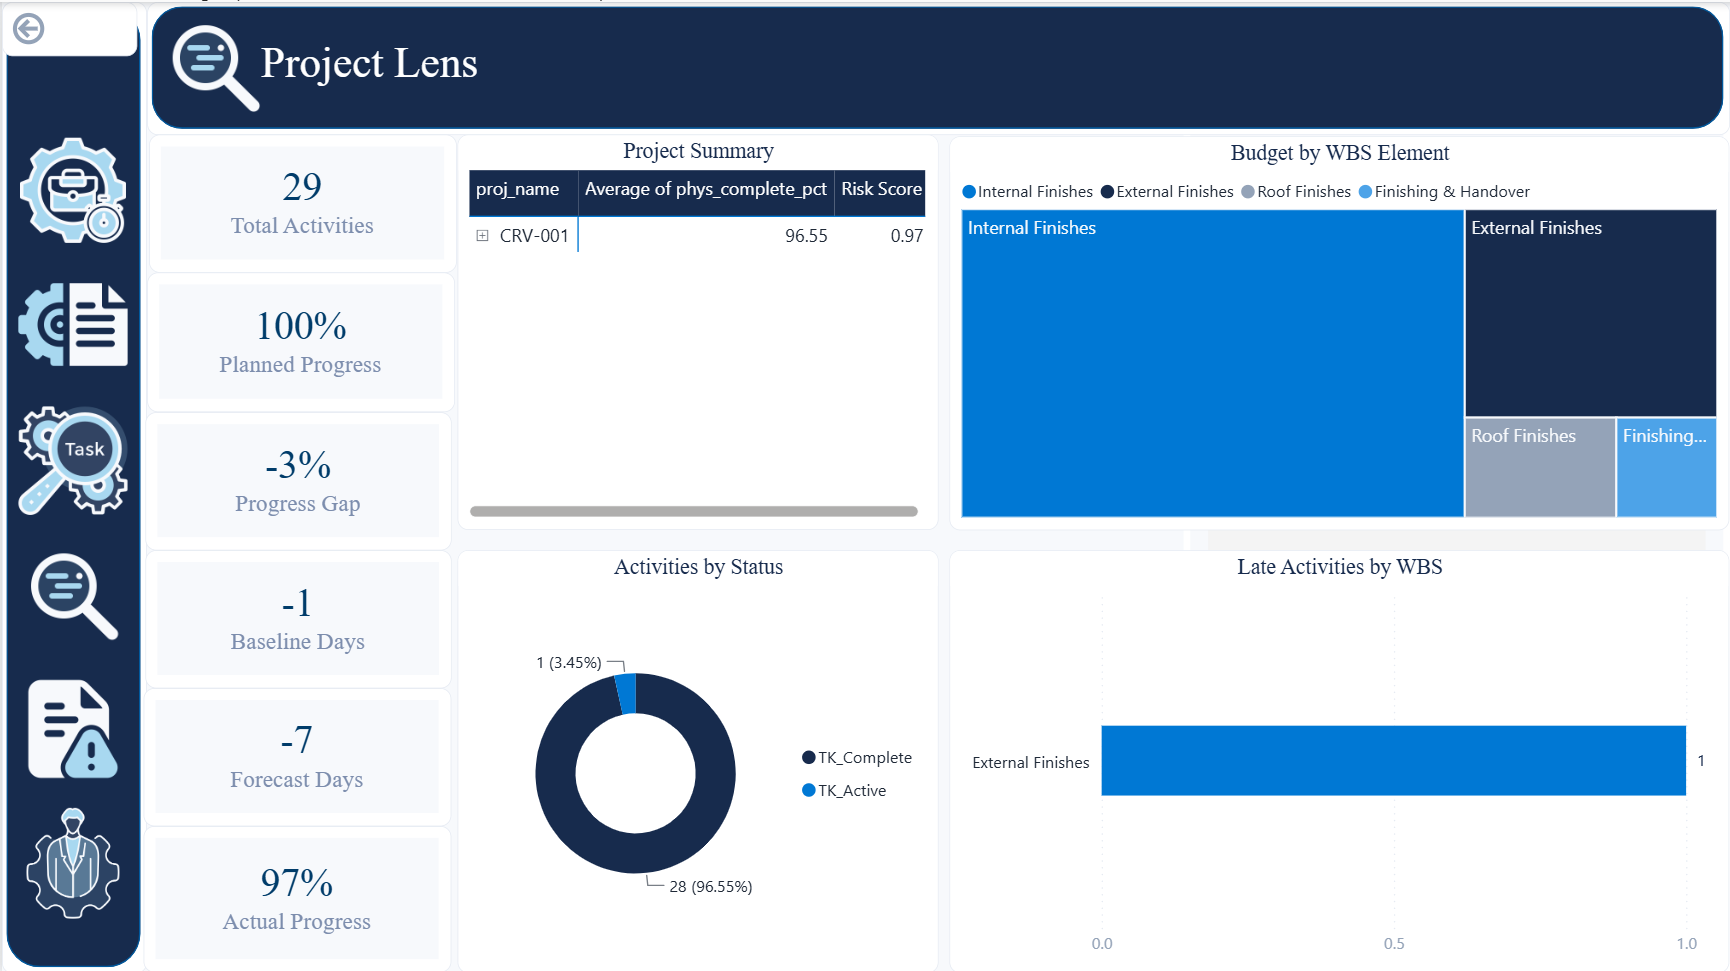

Layout of this report page (visuals, bound fields, positions):
{"tool":"powerbi","page":{"name":"Project Lense ","canvas":[1280,720],"ordinal":3},"visuals":[{"type":"keyDriversVisual","title":"What Drives Task Delays?","fields":{"ExplainBy":["vw_Task_Health.status_code","Sum(vw_Task_Health.phys_complete_pct)","Sum(vw_Task_Health.cpi)","Sum(vw_Task_Health.spi)","Sum(vw_Task_Health.cv)","Sum(vw_Task_Health.sv)","Sum(vw_Task_Health.free_float_hr_cnt)","Sum(vw_Task_Health.total_float_hr_cnt)","Sum(vw_Task_Health.is_negative_float)"],"Target":["vw_Task_Health.is_late"]},"box":[875,0,405,783.8],"z":0},{"type":"pivotTable","title":"Project Summary","fields":{"Rows":["Dim_Project.proj_name","Dim_WBS_Task.wbs_name","Dim_WBS_Task.task_name"],"Values":["Avg(Fact_Task_EVM.phys_complete_pct)","Measurees.Risk Score"]},"box":[337.1,98.1,356.3,293.3],"z":1000},{"type":"shape","box":[107.2,0,1172.8,98.6],"z":2000},{"type":"shape","box":[0,0,107.3,720],"z":3000},{"type":"textbox","box":[187.3,20.9,696.4,55.5],"z":4000},{"type":"cardVisual","fields":{"Data":["Measurees.Actual % Complete"]},"box":[104.5,611.2,228.3,108.8],"z":5000},{"type":"cardVisual","fields":{"Data":["Measurees.Remaining Duration (Forecast)"]},"box":[104.5,508.8,228.3,102.4],"z":6000},{"type":"cardVisual","fields":{"Data":["Measurees.Remaining Duration (Baseline)"]},"box":[105.6,406.4,227.2,102.4],"z":7000},{"type":"cardVisual","fields":{"Data":["Measurees.Completion Variance"]},"box":[105.6,304,227.2,102.4],"z":8000},{"type":"cardVisual","fields":{"Data":["Measurees.Planned % Complete"]},"box":[107.7,200.5,228.3,103.5],"z":9000},{"type":"cardVisual","fields":{"Data":["Measurees.Activity Count"]},"box":[108.8,98.1,228.3,102.4],"z":10000},{"type":"donutChart","title":"Activities by Status","fields":{"Category":["Dim_WBS_Task.status_code"],"Y":["Measurees.Total Tasks"]},"box":[338.1,406.4,356.3,313.6],"z":11000},{"type":"treemap","title":"Budget by WBS Element","fields":{"Group":["Dim_WBS_Task.wbs_name"],"Values":["Measurees.Total BAC"]},"box":[701.9,99.2,578.1,292.3],"z":12000},{"type":"barChart","title":"Late Activities by WBS","fields":{"Category":["Dim_WBS_Task.wbs_name"],"Y":["Measurees.Late Tasks"]},"box":[701.9,406.4,578.1,313.6],"z":13000},{"type":"actionButton","box":[0,0,100,40],"z":14000},{"type":"image","box":[117.3,7.3,80.9,82.7],"z":15000},{"type":"image","box":[12.7,98.2,80.9,82.7],"z":16000},{"type":"image","box":[12.7,198.2,80.9,82.7],"z":17000},{"type":"image","box":[12.7,298.2,80.9,82.7],"z":18000},{"type":"image","box":[12.7,398.2,80.9,82.7],"z":19000},{"type":"image","box":[12.7,597.3,80.9,81.8],"z":20000},{"type":"image","box":[12.7,498.2,80.9,81.8],"z":21000}]}

Visuals, with their boxes on the page's 1280x720 design canvas (x1, y1, x2, y2). These are canvas units, not pixel positions in the 1730x971 screenshot, which may show the page scaled, cropped or inside an application window:
"What Drives Task Delays?" keyDriversVisual: bbox(875, 0, 1280, 784)
"Project Summary" pivotTable: bbox(337, 98, 693, 391)
shape: bbox(107, 0, 1280, 99)
shape: bbox(0, 0, 107, 720)
textbox: bbox(187, 21, 884, 76)
cardVisual - Measurees.Actual % Complete: bbox(104, 611, 333, 720)
cardVisual - Measurees.Remaining Duration (Forecast): bbox(104, 509, 333, 611)
cardVisual - Measurees.Remaining Duration (Baseline): bbox(106, 406, 333, 509)
cardVisual - Measurees.Completion Variance: bbox(106, 304, 333, 406)
cardVisual - Measurees.Planned % Complete: bbox(108, 200, 336, 304)
cardVisual - Measurees.Activity Count: bbox(109, 98, 337, 200)
"Activities by Status" donutChart: bbox(338, 406, 694, 720)
"Budget by WBS Element" treemap: bbox(702, 99, 1280, 392)
"Late Activities by WBS" barChart: bbox(702, 406, 1280, 720)
actionButton: bbox(0, 0, 100, 40)
image: bbox(117, 7, 198, 90)
image: bbox(13, 98, 94, 181)
image: bbox(13, 198, 94, 281)
image: bbox(13, 298, 94, 381)
image: bbox(13, 398, 94, 481)
image: bbox(13, 597, 94, 679)
image: bbox(13, 498, 94, 580)
